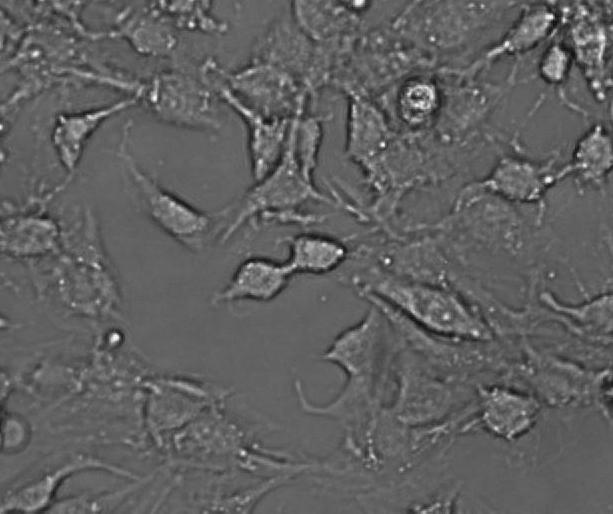Dead: (472, 384, 541, 442), (50, 106, 102, 173), (220, 257, 289, 304), (286, 236, 349, 276), (393, 77, 442, 125), (537, 44, 575, 86), (1, 416, 31, 458)
